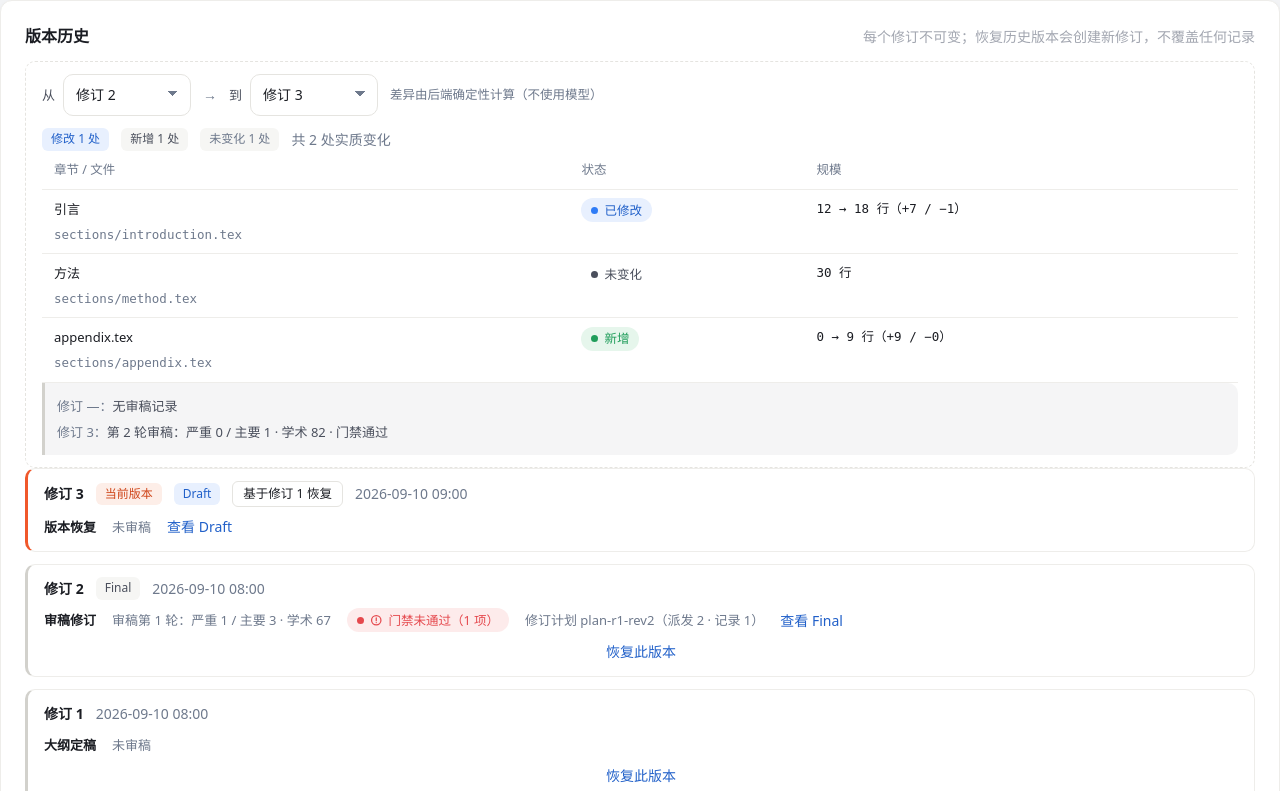
Scenario: 版本历史 › 恢复：确认文案如实（创建新修订 / 不删除历史）；成功后展示过期提示
The width and height of the screenshot is (1280, 791).
Click the button with test id "version-restore-button" below "审稿修订". click: (641, 652)
box: [44,640,1238,664]
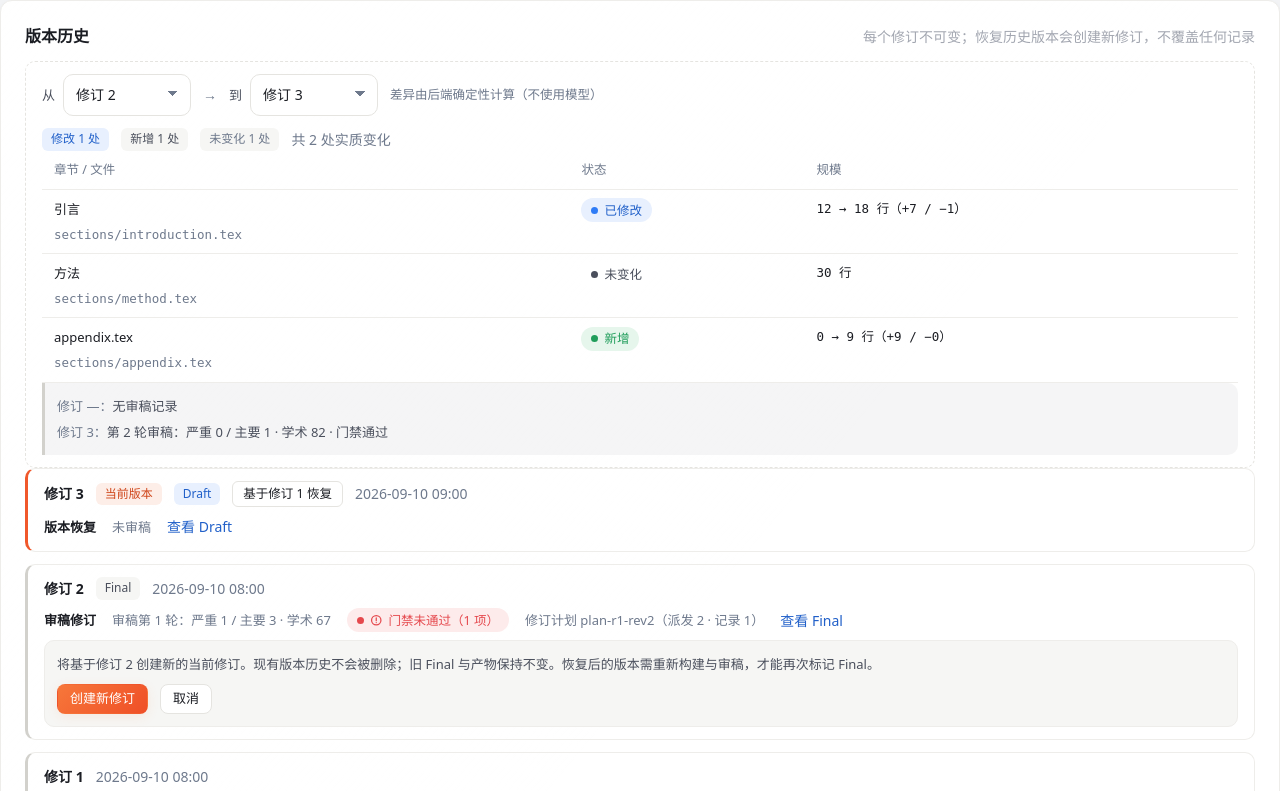
Check: the element with test id "version-restore-confirm" shows "将基于修订 2 创建新的当前修订。现有版本历史不会被删除", box [44,640,1238,727]
Click the button with test id "version-restore-confirm-button". click: (102, 698)
box: [57,684,148,714]
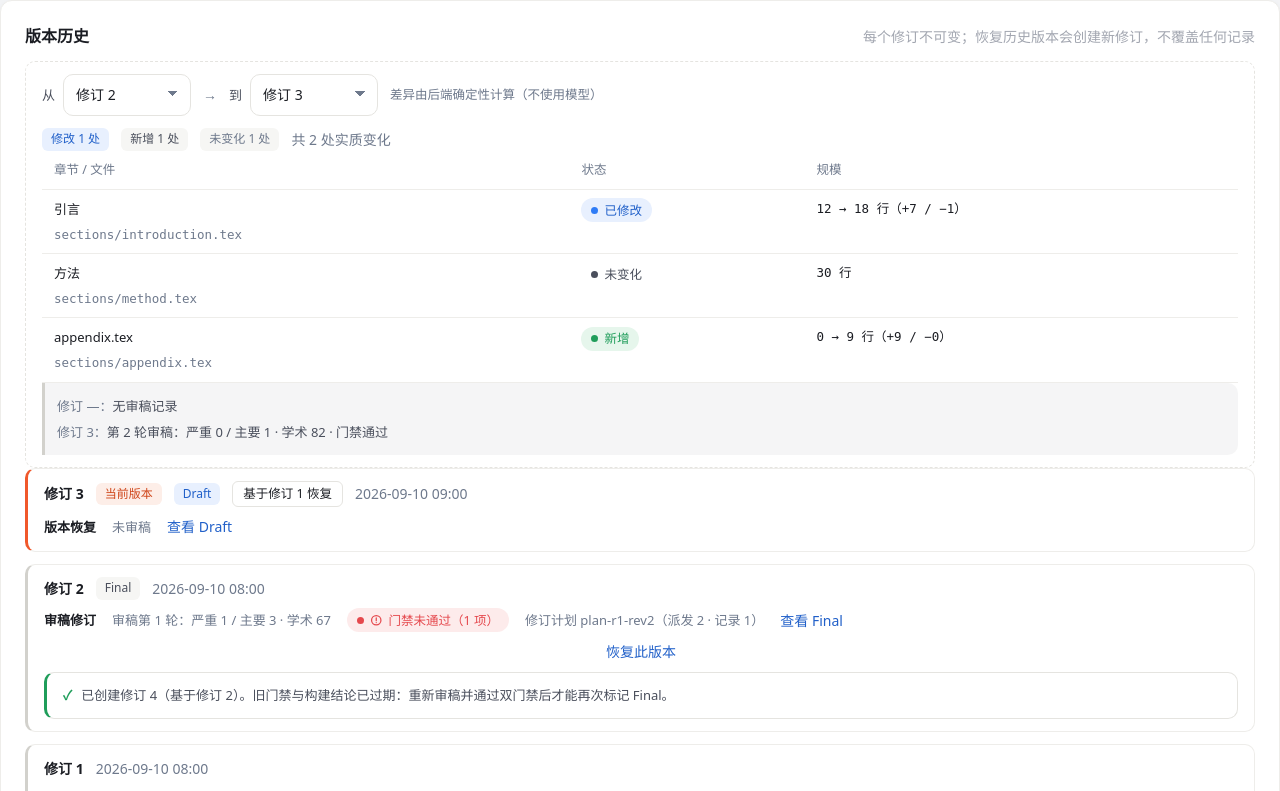
Check: the message with test id "version-restore-success" shows "已创建修订 4（基于修订 2）", box [44,672,1238,719]
Check: the message with test id "version-restore-success" shows "旧门禁与构建结论已过期", box [233,686,675,704]
